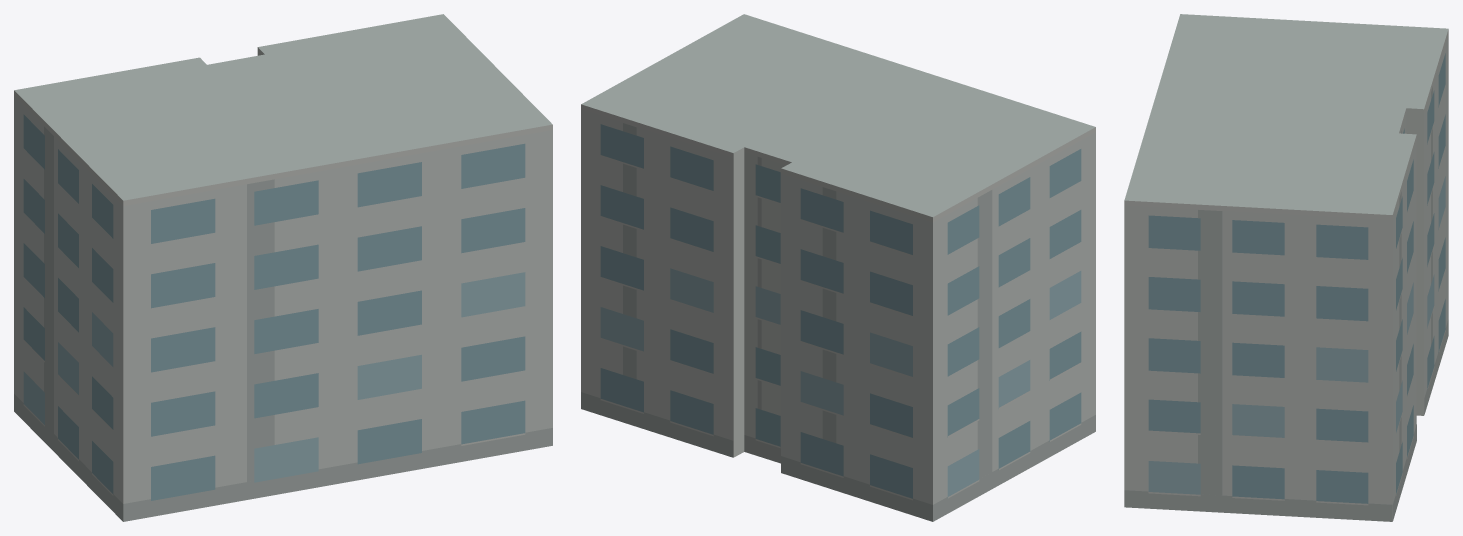
Rendered from survey-upis-32806526.glb.
3 renders of one model, left to right at view 1: azimuth 30°, elevation 25°; view 2: azimuth 150°, elevation 25°; view 3: azimuth 270°, elevation 25°, orthographic. The views are drawn at different scales.
Visible parts, largest first — view 1: survey-upis-32806526.tmp; view 2: survey-upis-32806526.tmp; view 3: survey-upis-32806526.tmp.
Boxes of the visible parts, left/top/right/bottom form: survey-upis-32806526.tmp: left=14, top=14, right=552, bottom=521; survey-upis-32806526.tmp: left=581, top=14, right=1095, bottom=521; survey-upis-32806526.tmp: left=1124, top=14, right=1448, bottom=521.
Bounding box in the file's own units: 20.05 × 14.25 × 13.67.
